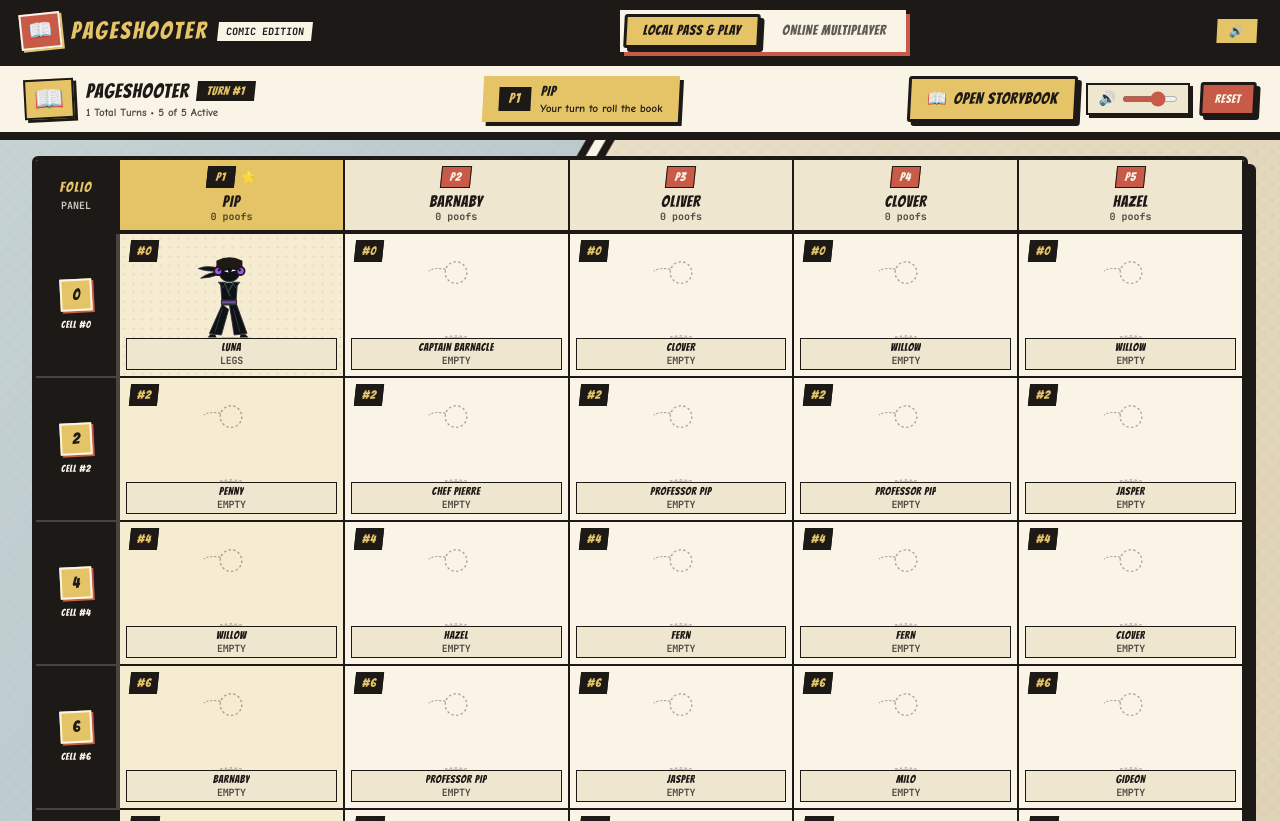
Scenario: Mode Switching & Offline Mode Isolation Tests › preserves offline match state in memory and IndexedDB when switching between modes
expect the button "📖 Open Storybook" is shown: met, box [906,76,1078,122]
# Switch to Online Multiplayer mode
Click the button "Online Multiplayer".
click(834, 31)  # box [766,17,902,45]
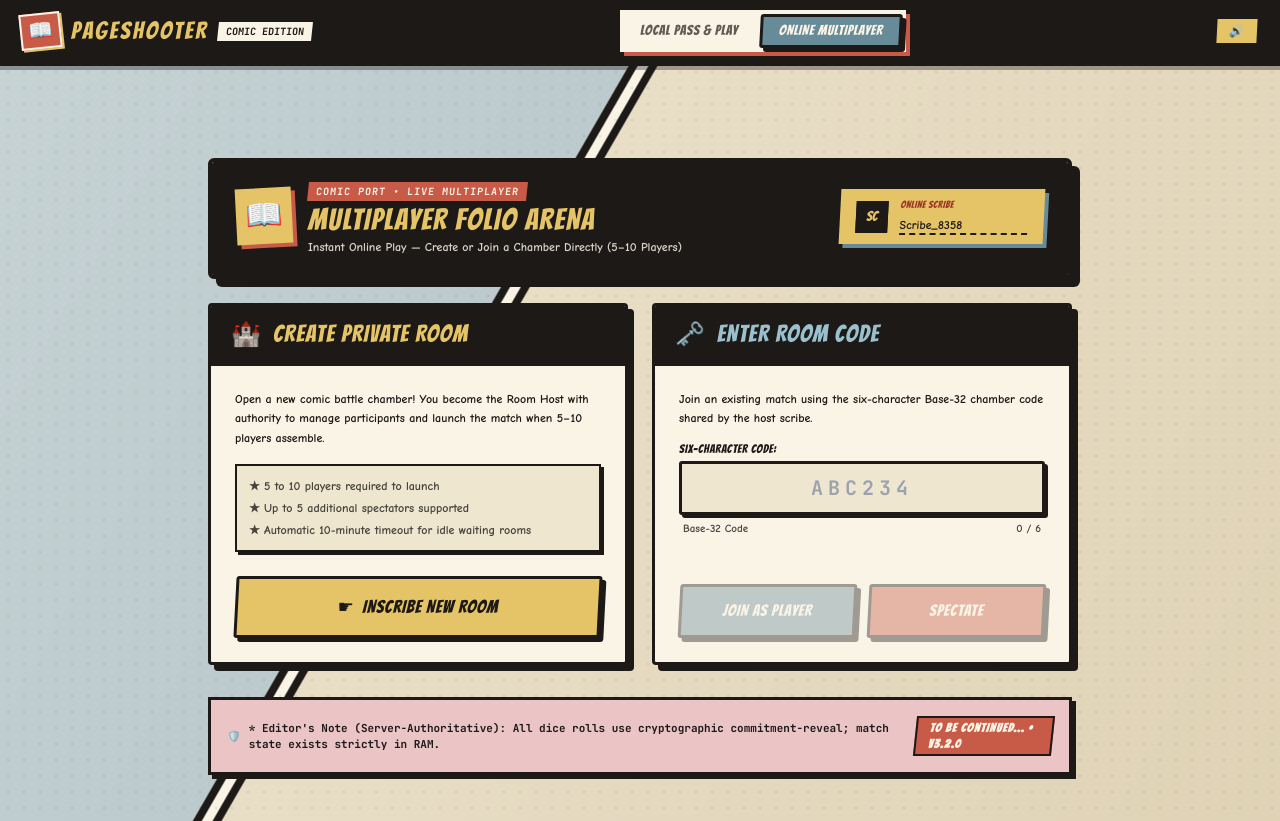
expect the heading "Multiplayer Folio Arena" is shown: met, box [308,204,595,235]
# Switch back to Local Pass & Play mode
Click the button "Local Pass & Play".
click(689, 31)  # box [624,17,754,45]
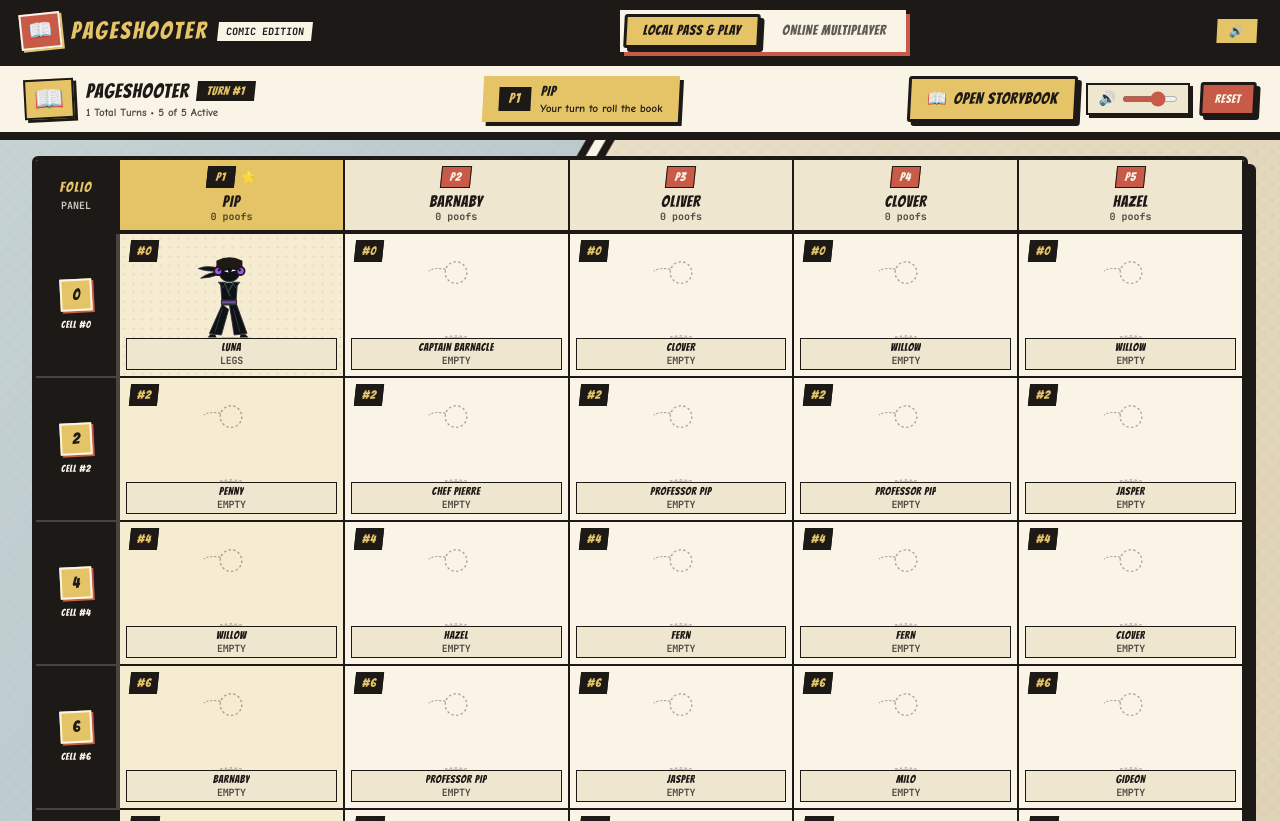
expect the button "📖 Open Storybook" is shown: met, box [906,76,1078,122]
